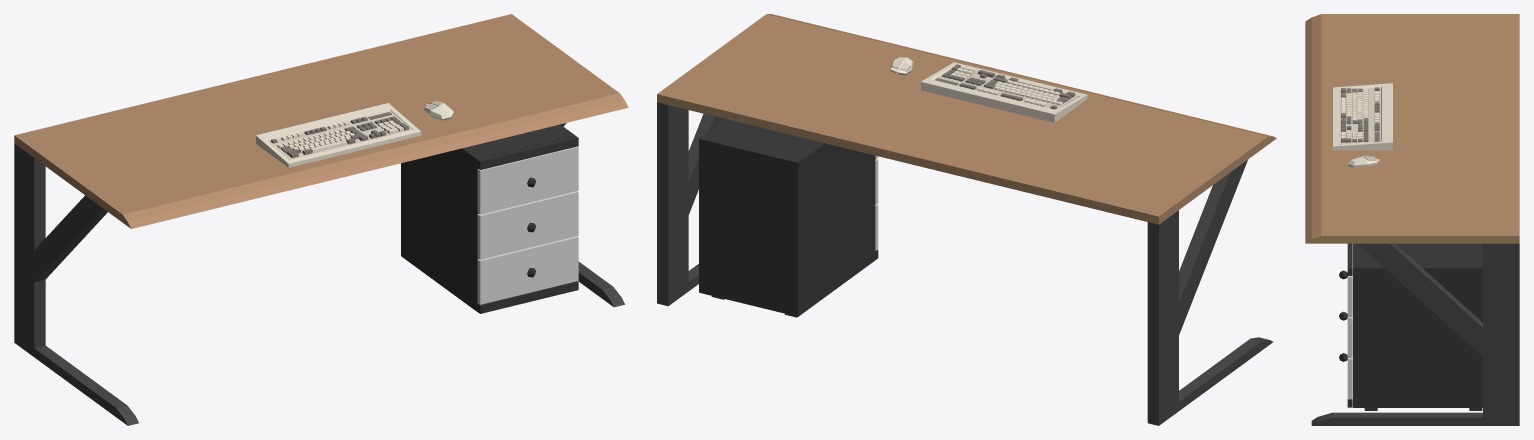
File: desk.glb
The picture shows the model from 3 angles, left to right: view 1: azimuth 30°, elevation 25°; view 2: azimuth 150°, elevation 25°; view 3: azimuth 270°, elevation 25°; orthographic projection. The views are drawn at different scales.
Visible parts, largest first — view 1: Office_desk, Drawers, Keyboard; view 2: Office_desk, Drawers, Keyboard; view 3: Office_desk, Drawers, Keyboard, Mouse.
Boxes of the visible parts, left/top/right/bottom form: Office_desk: left=14, top=14, right=628, bottom=425; Drawers: left=401, top=124, right=578, bottom=313; Keyboard: left=256, top=103, right=421, bottom=167; Office_desk: left=657, top=14, right=1276, bottom=425; Drawers: left=699, top=119, right=878, bottom=317; Keyboard: left=921, top=62, right=1087, bottom=122; Office_desk: left=1305, top=14, right=1519, bottom=425; Drawers: left=1339, top=243, right=1482, bottom=410; Keyboard: left=1333, top=83, right=1392, bottom=150; Mouse: left=1348, top=155, right=1379, bottom=167.
Size of the model in its own units: 188 by 78.24 by 76.47.
Materials: 1 (1 with a texture image).
